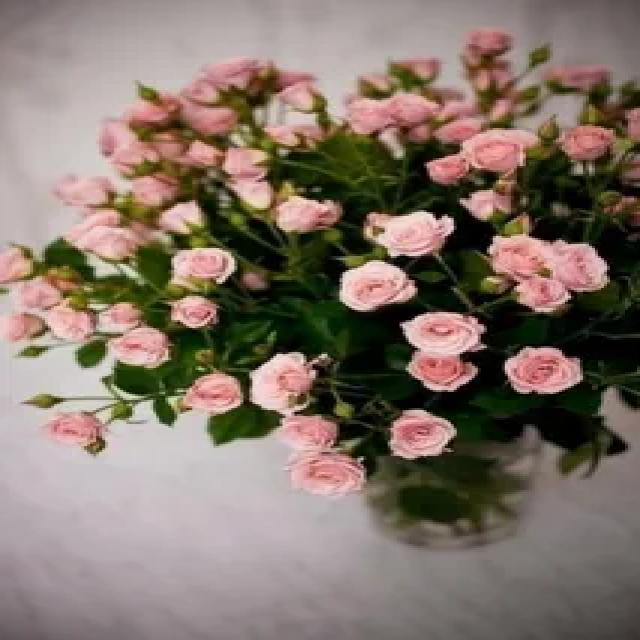rose: (483, 340, 610, 412), (276, 434, 372, 508), (147, 234, 253, 298), (325, 256, 424, 321), (35, 400, 128, 459)
